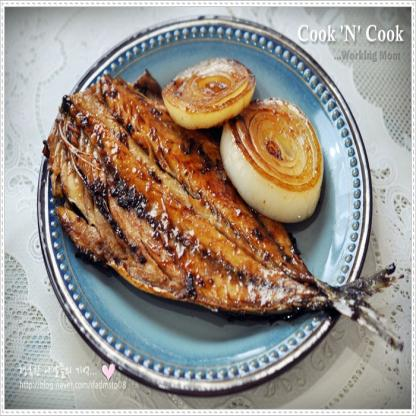Peixe: (59, 70, 394, 339)
